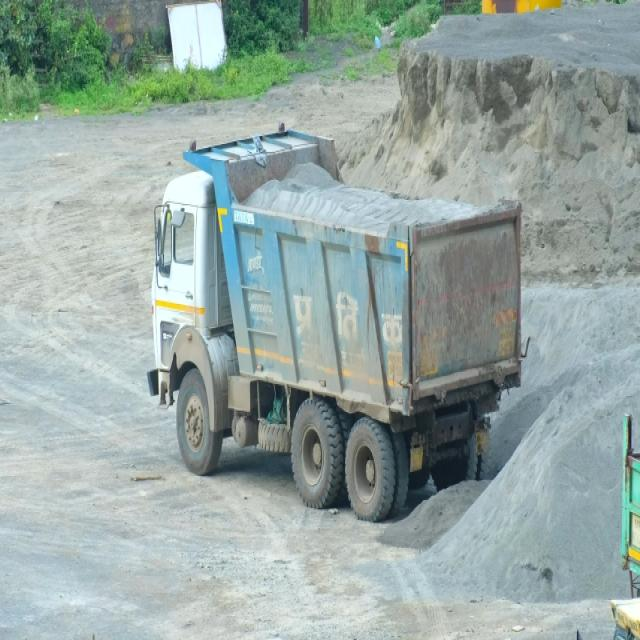truck: (148, 126, 520, 520)
